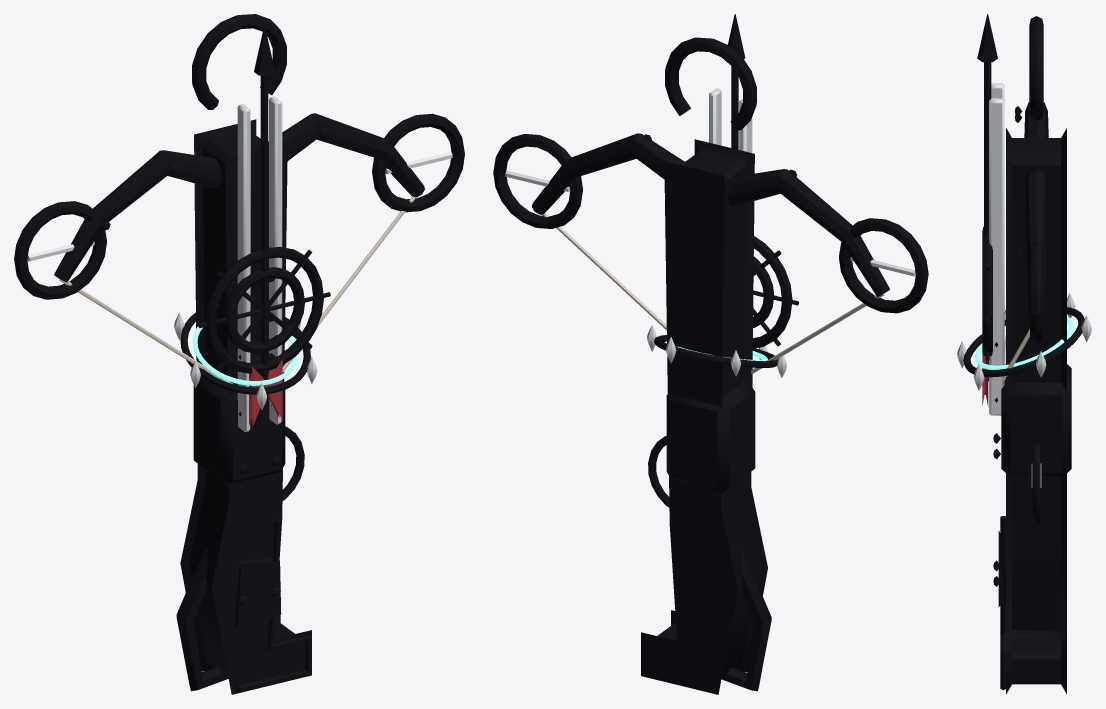
The model's file is esc_w_ranger_crossbow_9.glb.
3 renders of one model, left to right at view 1: azimuth 30°, elevation 25°; view 2: azimuth 150°, elevation 25°; view 3: azimuth 270°, elevation 25°, orthographic. The views are drawn at different scales.
Parts seen in each view (by area): view 1: esc_w_ranger_crossbow_9; view 2: esc_w_ranger_crossbow_9; view 3: esc_w_ranger_crossbow_9.
Boxes of the visible parts, bbox=[...] form: esc_w_ranger_crossbow_9: bbox=[14, 14, 464, 694]; esc_w_ranger_crossbow_9: bbox=[493, 14, 928, 694]; esc_w_ranger_crossbow_9: bbox=[957, 14, 1091, 694].
Size of the model in its own units: 0.8299 by 1.18 by 0.2207.
